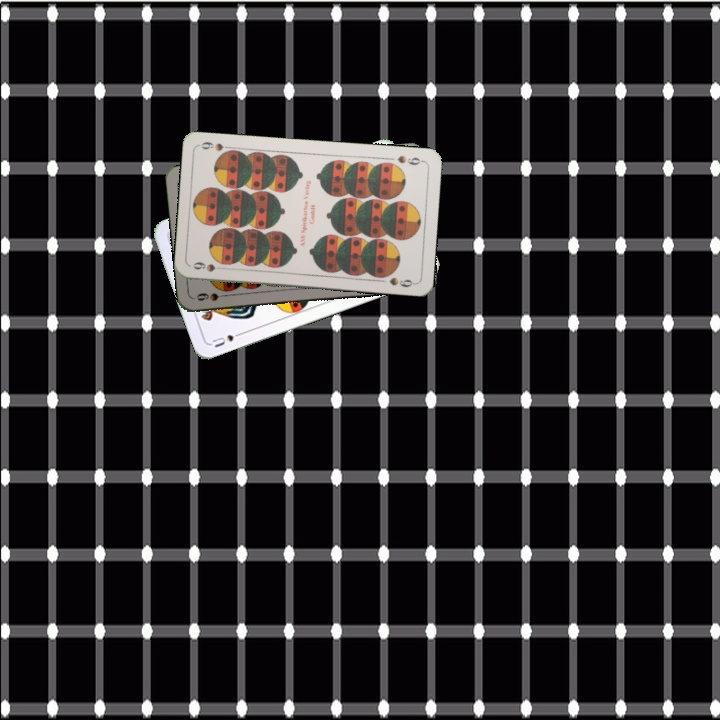S9: (189, 258, 229, 274), (192, 289, 232, 304), (393, 151, 426, 168)
SU: (207, 327, 247, 350)
